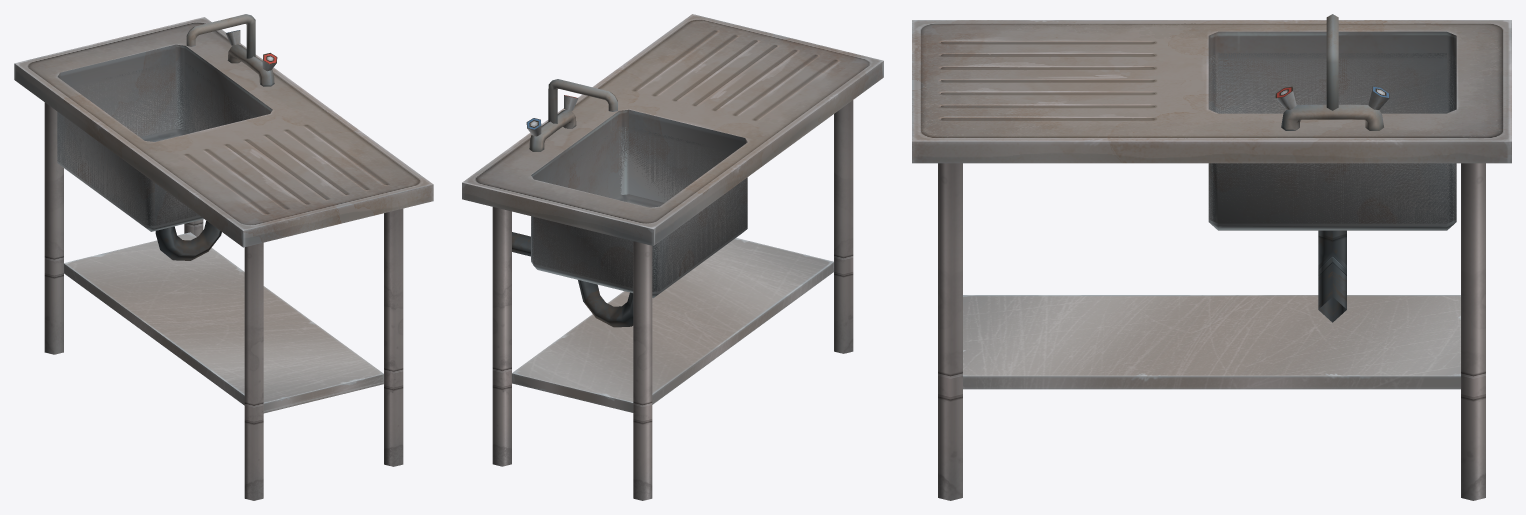
File: kitchen_sink01.fbx
3 renders of one model, left to right at view 1: azimuth 30°, elevation 25°; view 2: azimuth 150°, elevation 25°; view 3: azimuth 270°, elevation 25°, orthographic. The views are drawn at different scales.
Visible parts, largest first — view 1: kitchen_sink01; view 2: kitchen_sink01; view 3: kitchen_sink01.
Part boxes in pixels (box(x1,y1,x2,y2)): kitchen_sink01: box(14, 14, 433, 500); kitchen_sink01: box(462, 14, 883, 500); kitchen_sink01: box(912, 14, 1511, 500).
Bounding box in the file's own units: 69.61 × 103 × 125.
